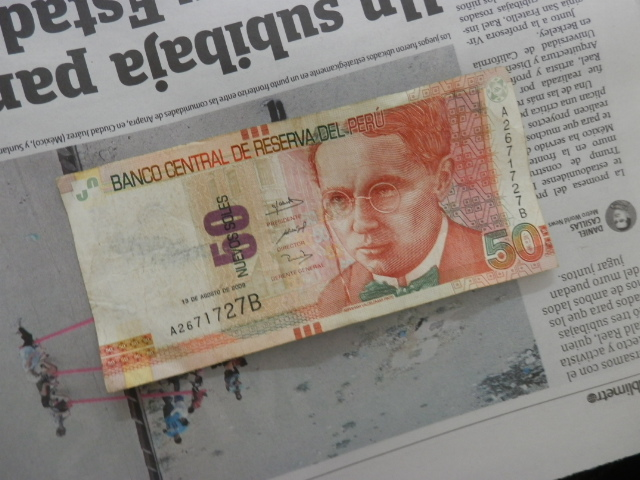B50: (41, 98, 571, 346)
